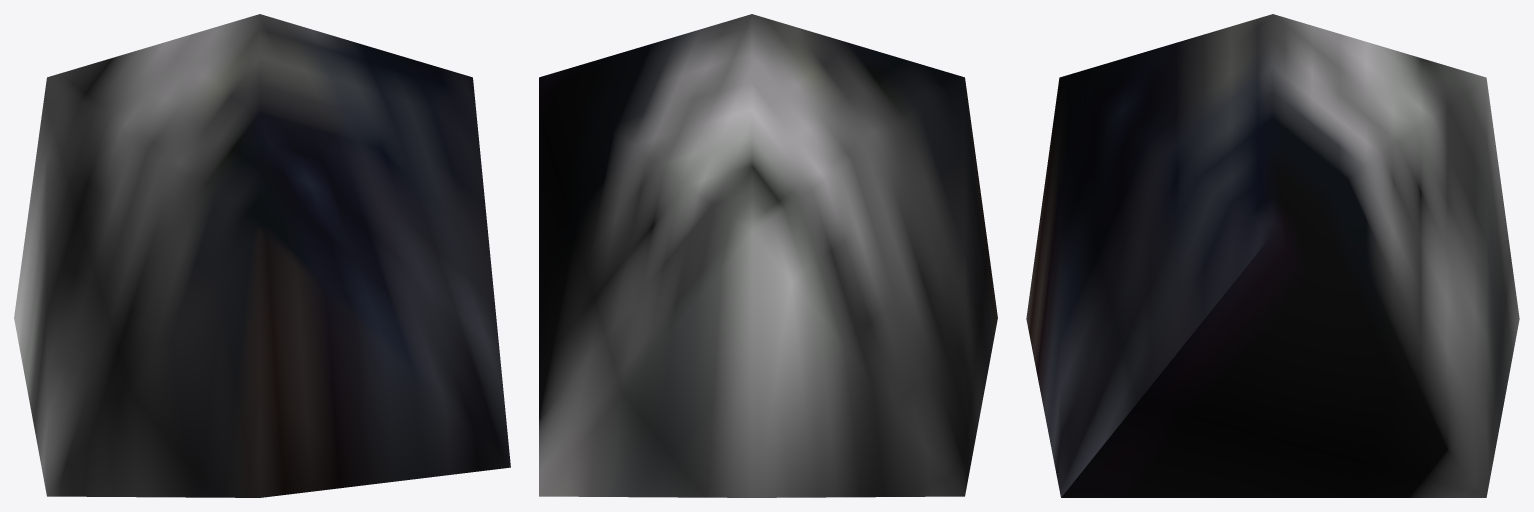
File: Civilian - Civilian Building - Bridg D 08 - CBBridgD08.glb
3 renders of one model, left to right at view 1: azimuth 30°, elevation 25°; view 2: azimuth 150°, elevation 25°; view 3: azimuth 270°, elevation 25°, orthographic.
Parts seen in each view (by area): view 1: CBBRIDGD08; view 2: CBBRIDGD08; view 3: CBBRIDGD08.
Boxes of the visible parts, x1,y1,x2,y2 form: CBBRIDGD08: [14, 14, 510, 497]; CBBRIDGD08: [539, 14, 997, 497]; CBBRIDGD08: [1026, 14, 1519, 497].
Bounding box in the file's own units: 5.15 × 4.98 × 5.15.
1 material, 1 textured.
